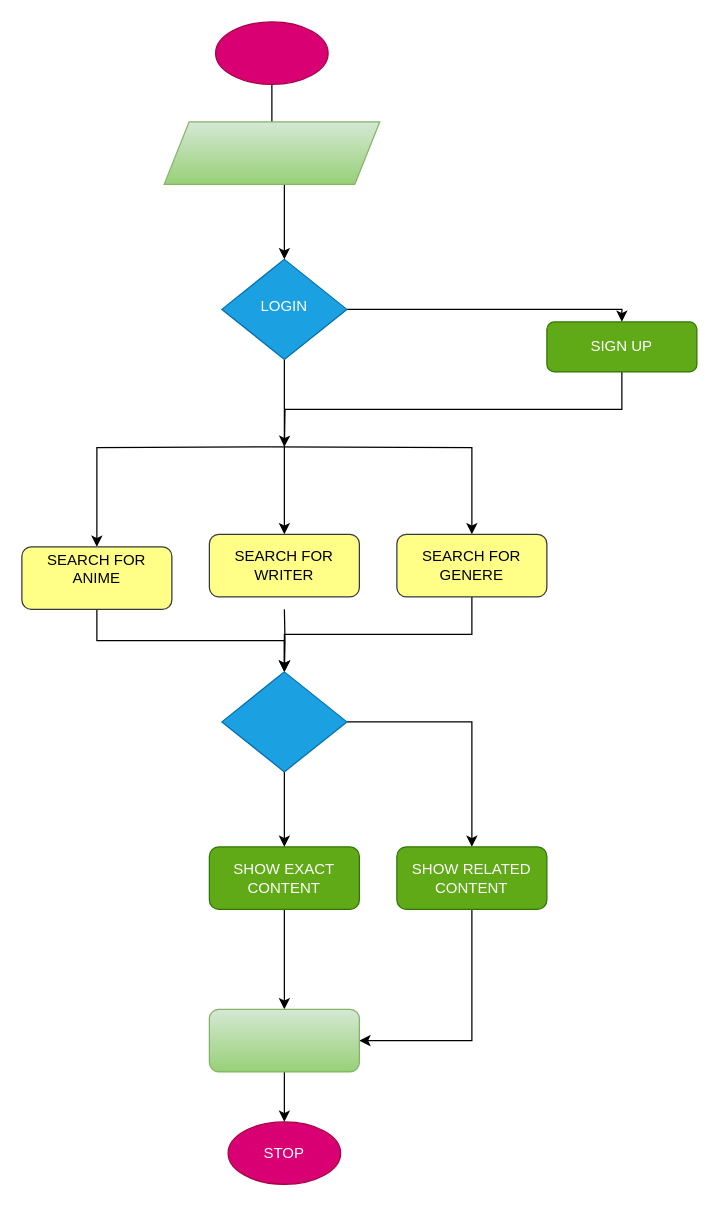
The diagram is 719 pixels wide and 1206 high, and some of its shapes have lost their labels. Each missing label, with the centre of its shape:
CHECK DATA BASE: [284,721]
MAIN PAGE LOAD: [271,152]
REVIEW SECTION: [283,1040]
START: [271,52]
